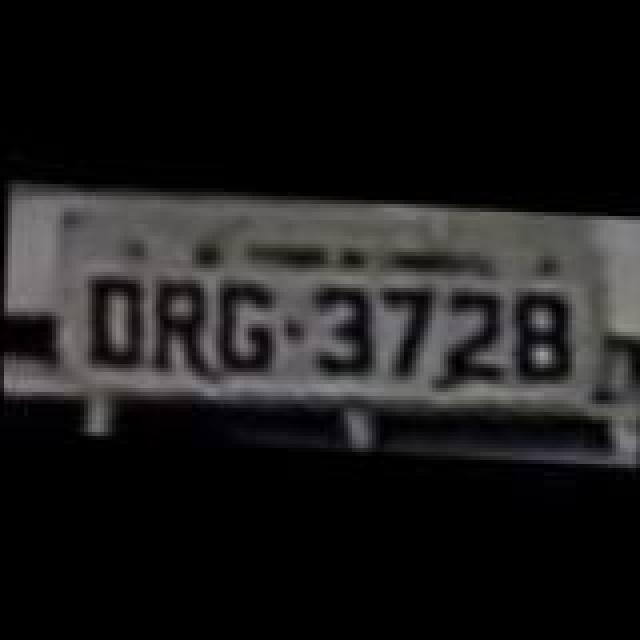2: (436, 284, 512, 380)
3: (306, 280, 370, 380)
7: (376, 284, 444, 380)
8: (504, 286, 580, 386)
D: (78, 264, 150, 368)
G: (208, 280, 284, 376)
R: (148, 274, 208, 374)
